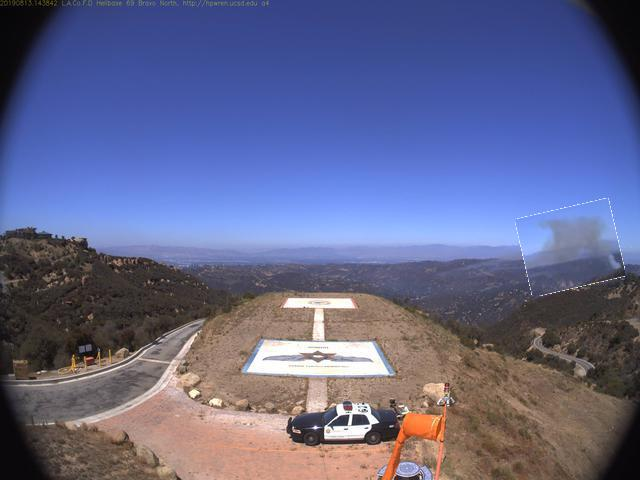smoke: (520, 204, 624, 294)
